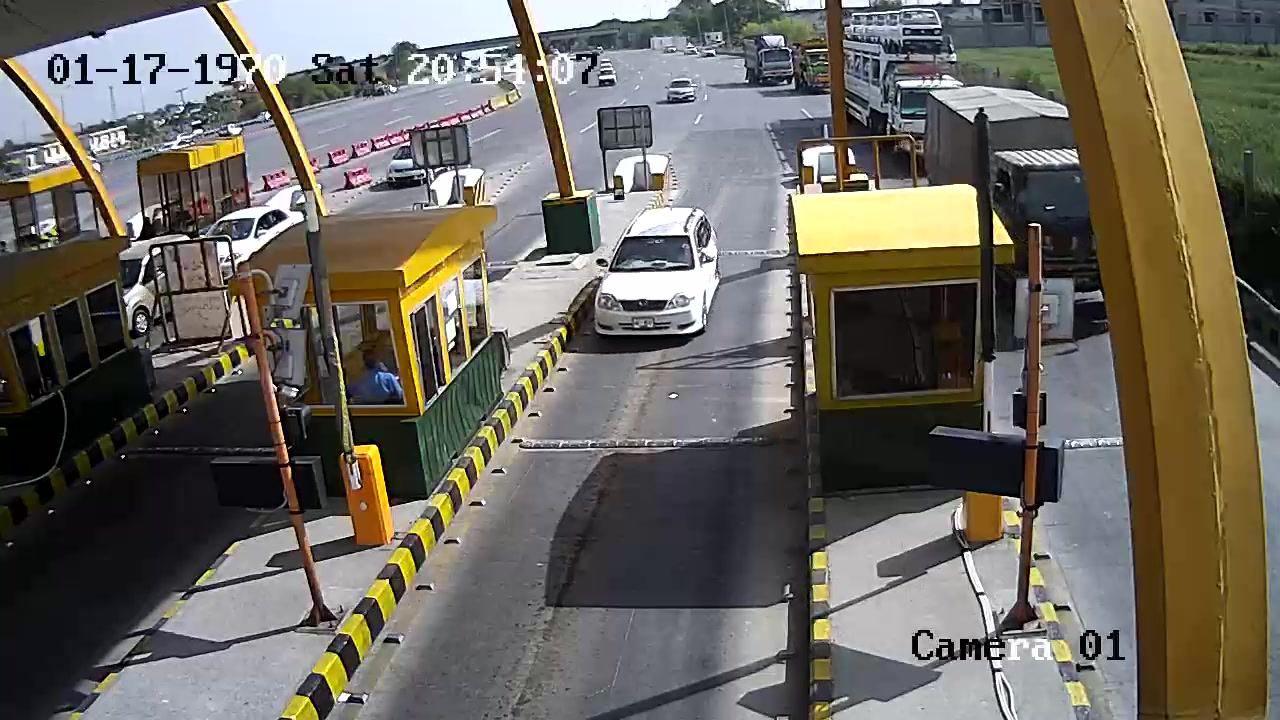F1: (592, 201, 725, 342)
